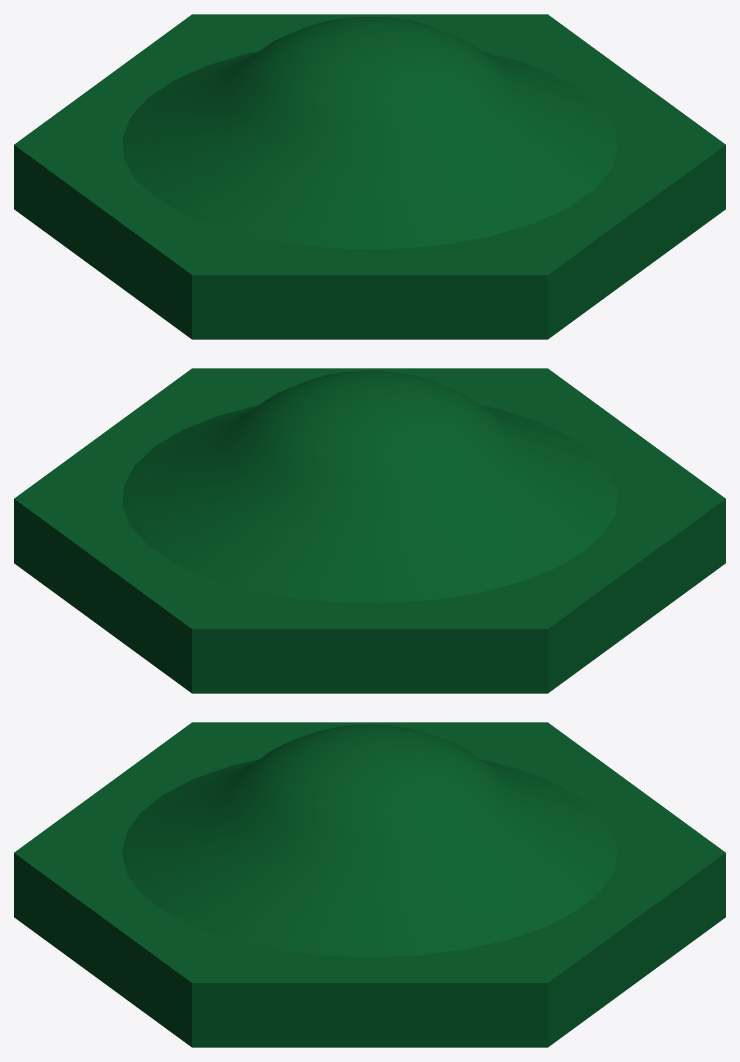
File: hillshex.fbx
The picture shows the model from 3 angles, top to bottom: view 1: azimuth 30°, elevation 25°; view 2: azimuth 150°, elevation 25°; view 3: azimuth 270°, elevation 25°; orthographic projection.
Visible parts, largest first — view 1: Cylinder; view 2: Cylinder; view 3: Cylinder.
Boxes of the visible parts, box(x1,y1,x2,y2) form: Cylinder: box(14, 14, 725, 339); Cylinder: box(14, 368, 725, 693); Cylinder: box(14, 722, 725, 1047).
Bounding box in the file's own units: 173 × 53.64 × 200.
